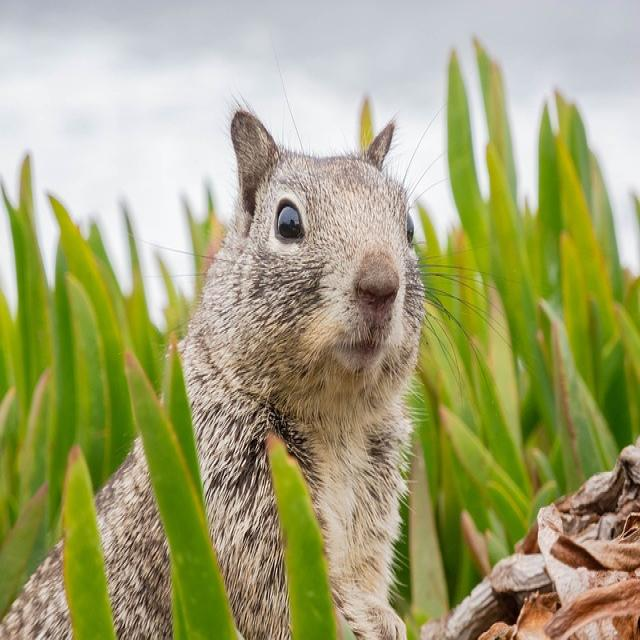Herbivorous: (177, 111, 427, 640)
